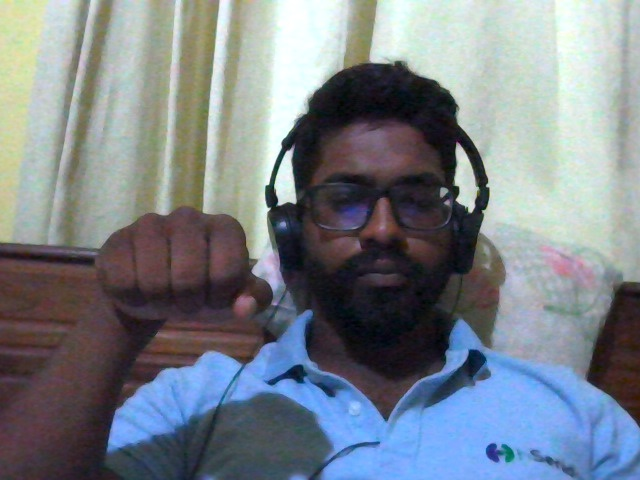Yes: (31, 172, 300, 375)
